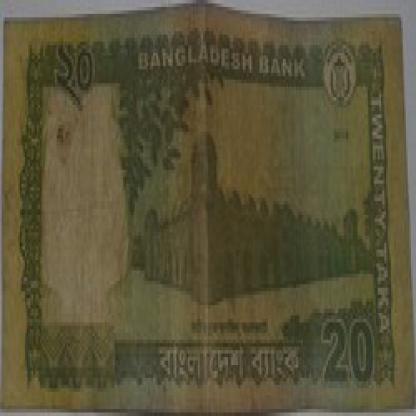Twenty: (311, 302, 373, 402), (52, 38, 115, 118)
